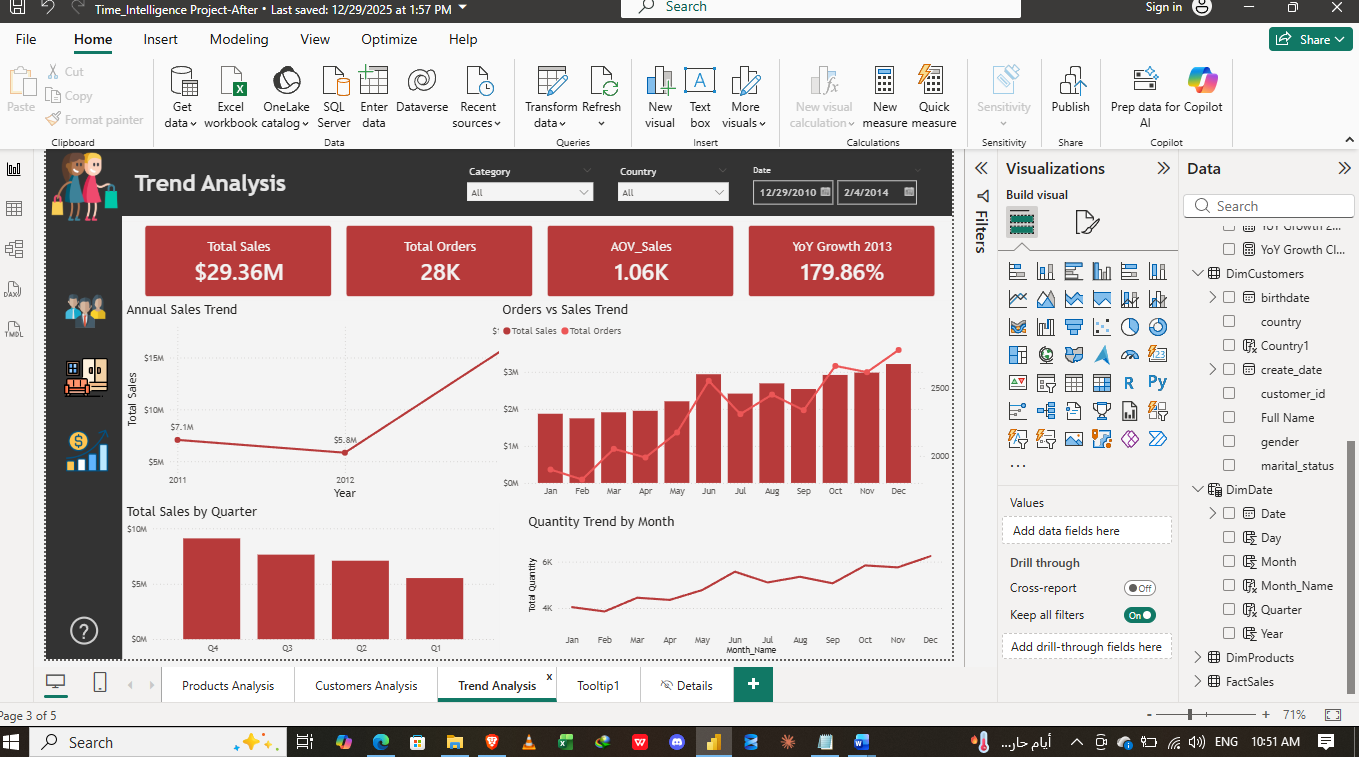

The page's visual inventory and layout, read from the dashboard file:
{"tool":"powerbi","page":{"name":"Trend Analysis","canvas":[1280,720],"ordinal":2},"visuals":[{"type":"group","id":"g1","title":"Navigator","box":[0,0,107.6,720.2],"z":0},{"type":"shape","box":[0,0,107.6,720.2],"z":0,"group":"g1"},{"type":"shape","box":[107.3,0,1172.7,101.5],"z":0,"group":"g2"},{"type":"group","id":"g2","title":"Header","box":[107.3,0,1172.7,101.5],"z":1000},{"type":"slicer","fields":{"Values":["DimDate.Date"]},"box":[985.3,18.6,262.9,75.8],"z":1000,"group":"g2"},{"type":"image","box":[19.6,198.6,72.1,58.7],"z":1000,"group":"g1"},{"type":"cardVisual","fields":{"Data":["DAX Measures.Total Sales","DAX Measures.Total Orders","DAX Measures.AOV_Sales","DAX Measures.YoY Growth 2013"]},"box":[106.8,94.6,1173.2,118.6],"z":1001},{"type":"clusteredColumnChart","fields":{"Category":["DimDate.Quarter"],"Y":["DAX Measures.Total Sales"]},"box":[108.7,499.8,530.8,220.2],"z":1002},{"type":"lineChart","title":"Annual Sales Trend","fields":{"Y":["DAX Measures.Total Sales"],"Category":["DimDate.Year"]},"box":[108.7,214.6,567.5,285.2],"z":1003},{"type":"lineChart","title":"Quantity Trend by Month","fields":{"Category":["DimDate.Month_Name"],"Y":["DAX Measures.Total Quantity"]},"box":[676.2,513.9,595.8,206.1],"z":1004},{"type":"lineClusteredColumnComboChart","title":"Orders vs Sales Trend","fields":{"Category":["DimDate.Month_Name"],"Y":["DAX Measures.Total Sales"],"Y2":["DAX Measures.Total Orders"]},"box":[639.5,214.6,640.9,285.2],"z":1005},{"type":"slicer","fields":{"Values":["DimCustomers.country"]},"box":[798.2,18.6,176.1,75.8],"z":2000,"group":"g2"},{"type":"image","box":[28.1,386.9,59.9,78.3],"z":2000,"group":"g1"},{"type":"slicer","fields":{"Values":["DimProducts.category_name"]},"box":[584.2,18.6,198.1,75.8],"z":3000,"group":"g2"},{"type":"image","box":[25.7,287.9,62.4,67.3],"z":3000,"group":"g1"},{"type":"image","box":[7.3,3.7,95.4,97.8],"z":4000,"group":"g1"},{"type":"textbox","box":[119.5,24.5,418.2,62.4],"z":4000,"group":"g2"},{"type":"actionButton","box":[28.1,651.8,51.4,55],"z":5000,"group":"g1"}]}

Visuals, with their boxes on the page's 1280x720 design canvas (x1, y1, x2, y2). These are canvas units, not pixel positions in the 1359x757 screenshot, which may show the page scaled, cropped or inside an application window:
"Navigator" group: Rect(0, 0, 108, 720)
shape: Rect(0, 0, 108, 720)
shape: Rect(107, 0, 1280, 102)
"Header" group: Rect(107, 0, 1280, 102)
slicer - DimDate.Date: Rect(985, 19, 1248, 94)
image: Rect(20, 199, 92, 257)
cardVisual - DAX Measures.Total Sales x DAX Measures.Total Orders: Rect(107, 95, 1280, 213)
clusteredColumnChart - DimDate.Quarter x DAX Measures.Total Sales: Rect(109, 500, 640, 720)
"Annual Sales Trend" lineChart: Rect(109, 215, 676, 500)
"Quantity Trend by Month" lineChart: Rect(676, 514, 1272, 720)
"Orders vs Sales Trend" lineClusteredColumnComboChart: Rect(640, 215, 1280, 500)
slicer - DimCustomers.country: Rect(798, 19, 974, 94)
image: Rect(28, 387, 88, 465)
slicer - DimProducts.category_name: Rect(584, 19, 782, 94)
image: Rect(26, 288, 88, 355)
image: Rect(7, 4, 103, 102)
textbox: Rect(120, 24, 538, 87)
actionButton: Rect(28, 652, 80, 707)
